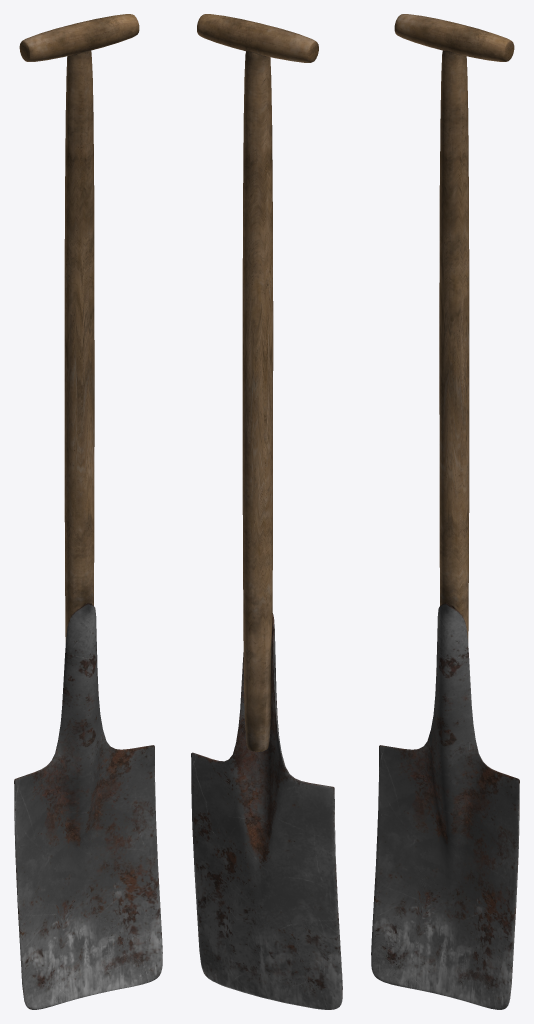
The model's file is rusted_spade_01.glb.
3 views of the same model, side by side, from view 1: azimuth 30°, elevation 25°; view 2: azimuth 150°, elevation 25°; view 3: azimuth 330°, elevation 25° (orthographic). The views are drawn at different scales.
Visible parts, largest first — view 1: rusted_spade_01; view 2: rusted_spade_01; view 3: rusted_spade_01.
Boxes of the visible parts, bbox=[...] form: rusted_spade_01: bbox=[14, 14, 162, 1009]; rusted_spade_01: bbox=[191, 14, 342, 1009]; rusted_spade_01: bbox=[371, 14, 519, 1009].
Size of the model in its own units: 0.1682 by 1.1 by 0.0456.
1 material, 1 textured.
